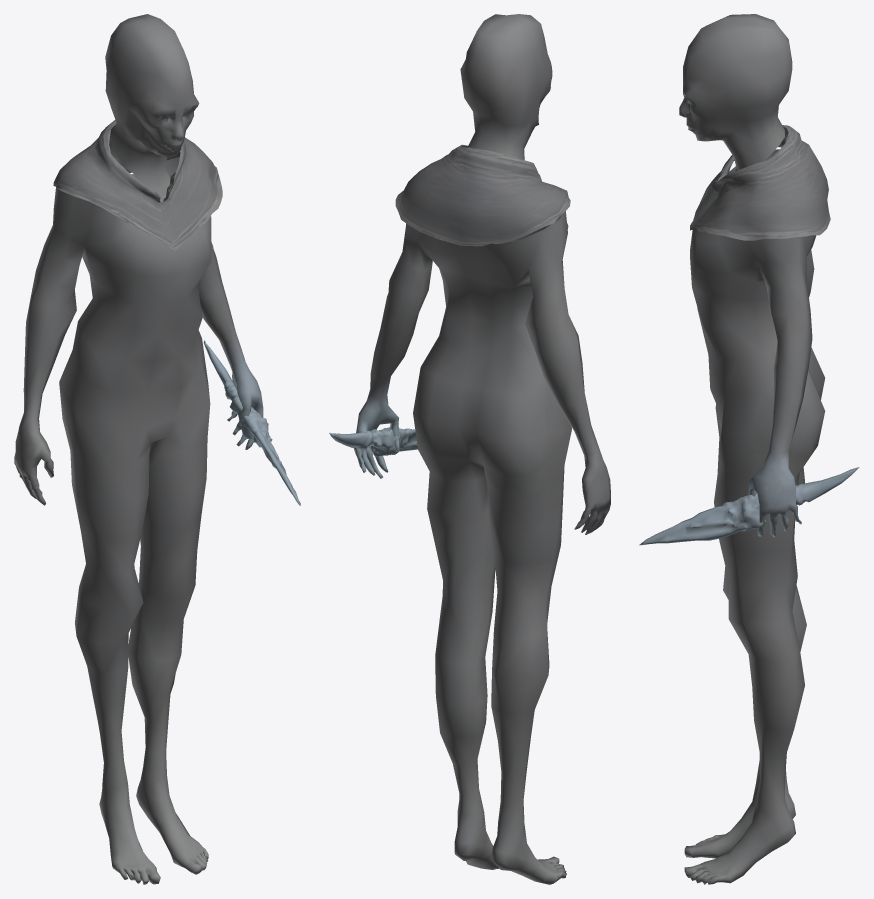
File: selected.glb
3 views of the same model, side by side, from view 1: azimuth 30°, elevation 25°; view 2: azimuth 150°, elevation 25°; view 3: azimuth 270°, elevation 25° (orthographic). The views are drawn at different scales.
Parts seen in each view (by area): view 1: tripo_node_79648caa-395d-42ae-b9b9-aa7984980934; view 2: tripo_node_79648caa-395d-42ae-b9b9-aa7984980934; view 3: tripo_node_79648caa-395d-42ae-b9b9-aa7984980934.
Boxes of the visible parts, x1=… form: tripo_node_79648caa-395d-42ae-b9b9-aa7984980934: x1=14, y1=14, x2=300, y2=884; tripo_node_79648caa-395d-42ae-b9b9-aa7984980934: x1=329, y1=14, x2=610, y2=884; tripo_node_79648caa-395d-42ae-b9b9-aa7984980934: x1=639, y1=14, x2=859, y2=884.
Size of the model in its own units: 0.2988 by 0.998 by 0.2363.
1 material, 1 textured.
